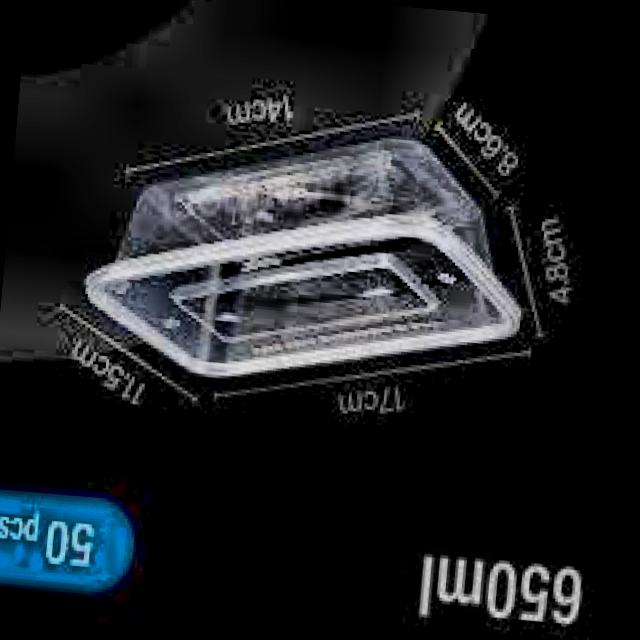plastic container: (87, 138, 520, 377)
